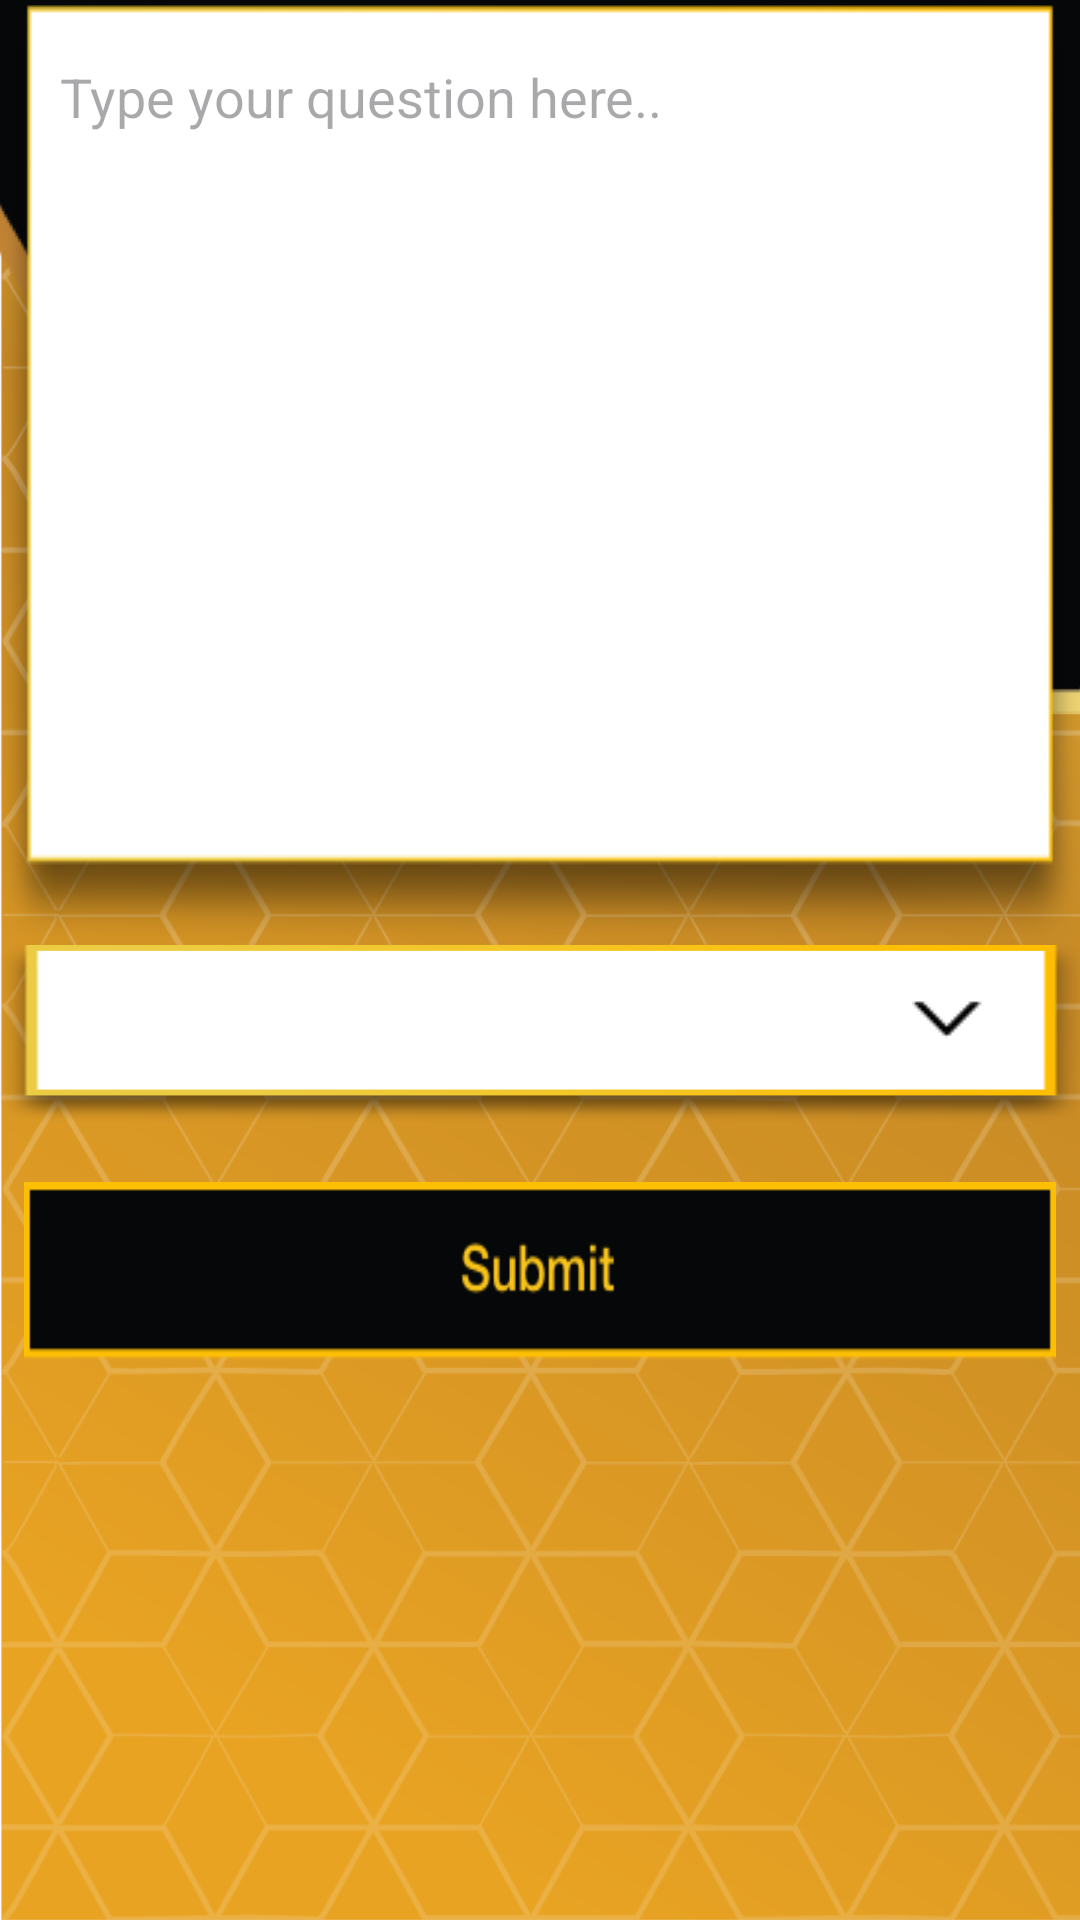

Locate icon controls on the screen. Image size 1080 × 1920, boxes as {"left": x1, "top": y1, "right": x2, "bottom": y2}.
down arrow: {"left": 912, "top": 1001, "right": 982, "bottom": 1036}
